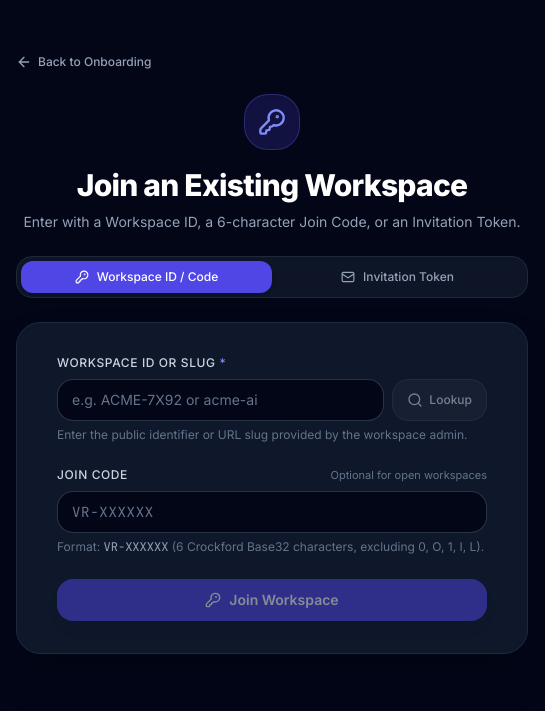
Test: WS-A8: Create & Join Workspace Workflows › Join Workspace Workflow (/workspaces/join) › 8. Mode 2: Rejects invalid or expired Join Code from server with truthful error
In the field labelled "Workspace ID or Slug *": (221, 400) [57,379,384,421], type "CORE-ENG"
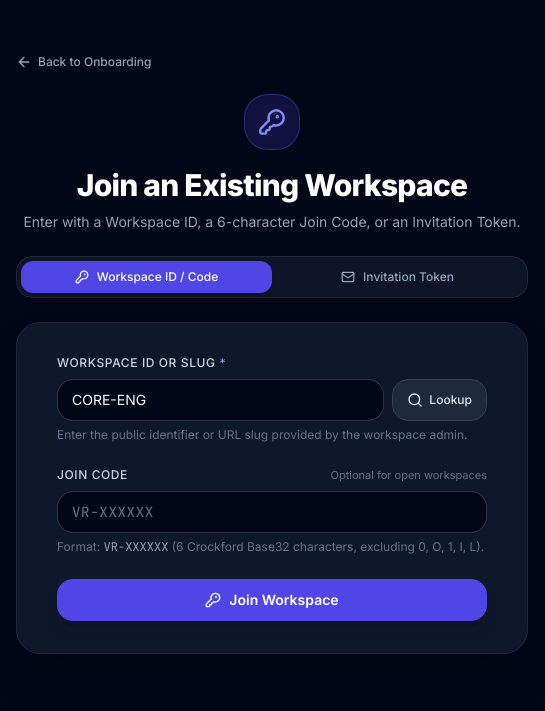
In the field labelled "Join Code": (272, 512) [57,491,487,533], type "VR-888888"
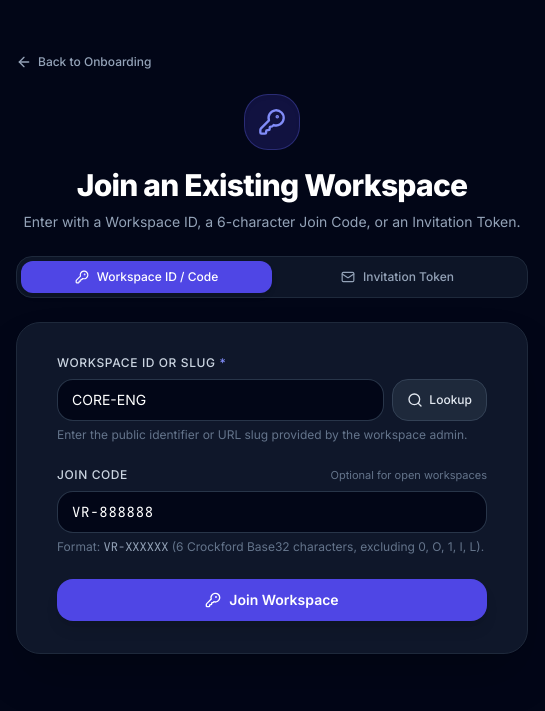
Click the button "Join Workspace": (272, 600) [57,579,487,621]
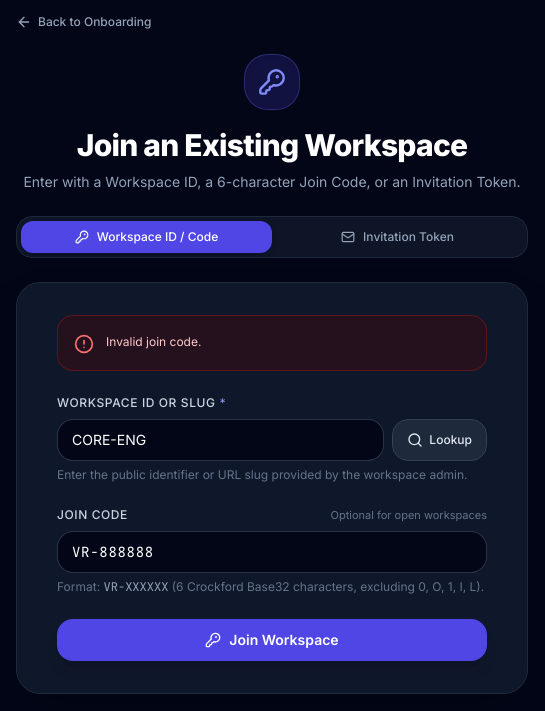
Result: the text "Invalid join code." is shown at [106,332,201,351]
